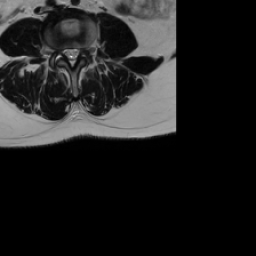CCS_normal: (68, 42, 75, 71)
LFS_severe_stenosis: (79, 41, 85, 56)
LLS_stenosis: (75, 42, 80, 62)
RFS_severe_stenosis: (55, 42, 62, 58)
RLS_stenosis: (62, 42, 68, 60)
